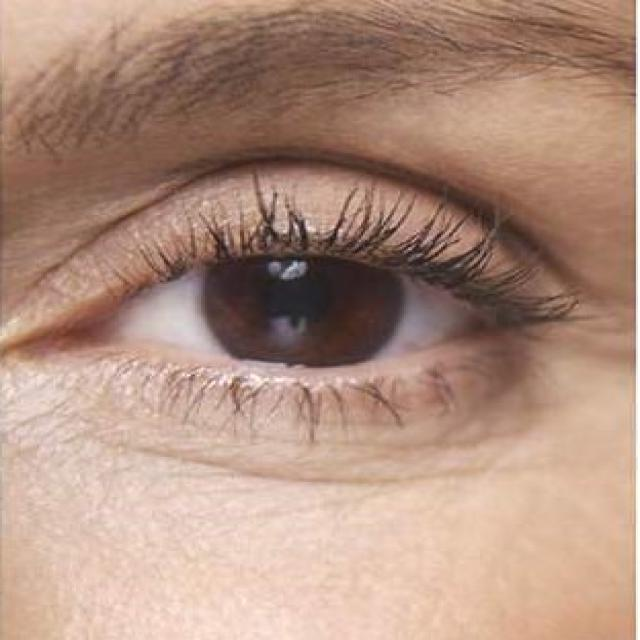Normal: (0, 138, 598, 445)
